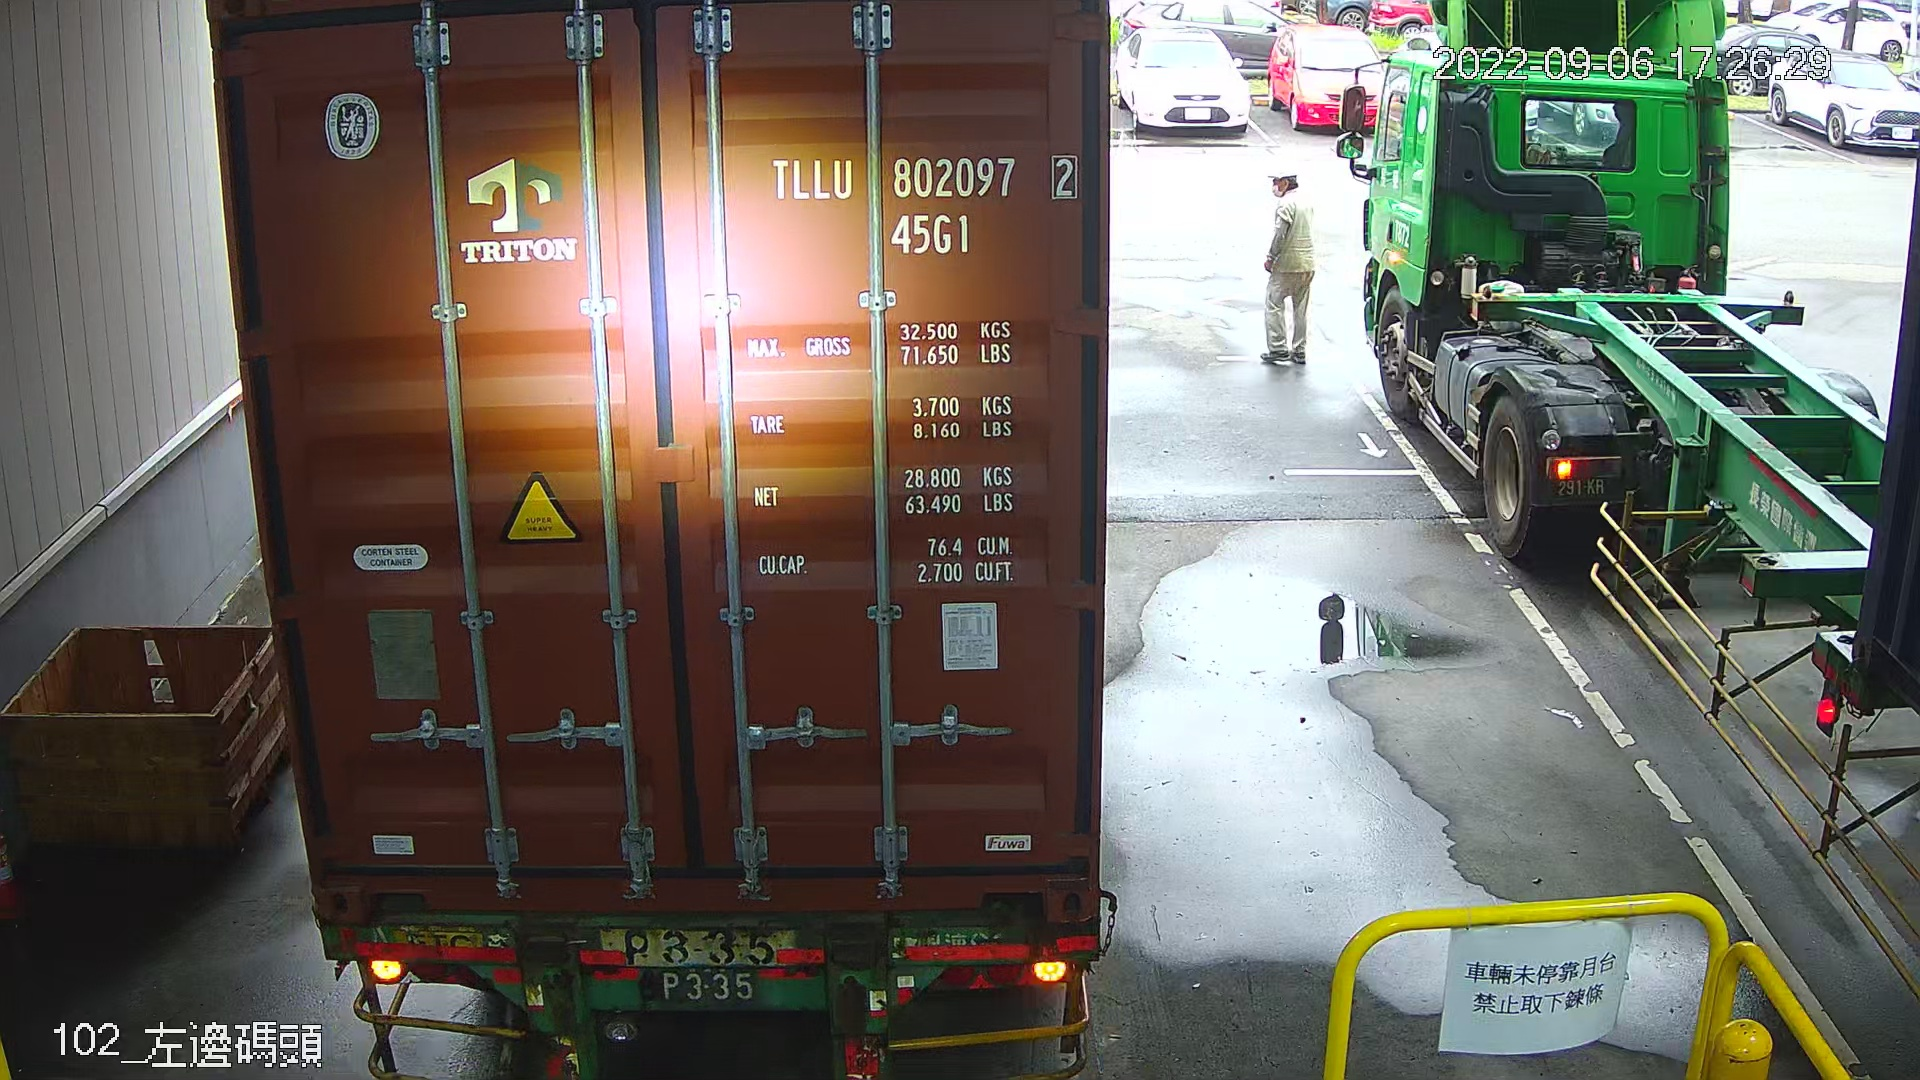container: (760, 144, 1087, 262)
